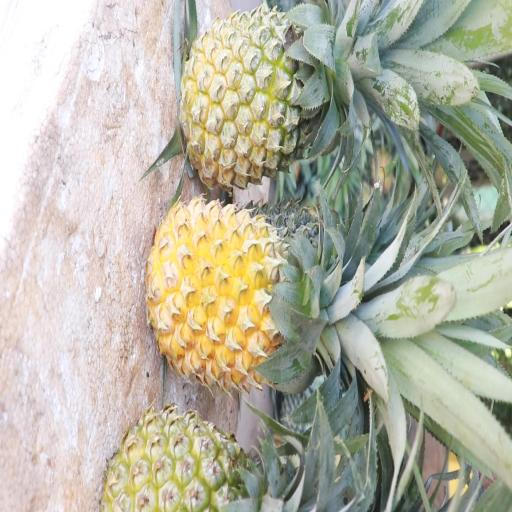------------------------------: (184, 6, 332, 180), (106, 406, 270, 512)
Pineapple - v8 v1: (149, 199, 331, 378)
